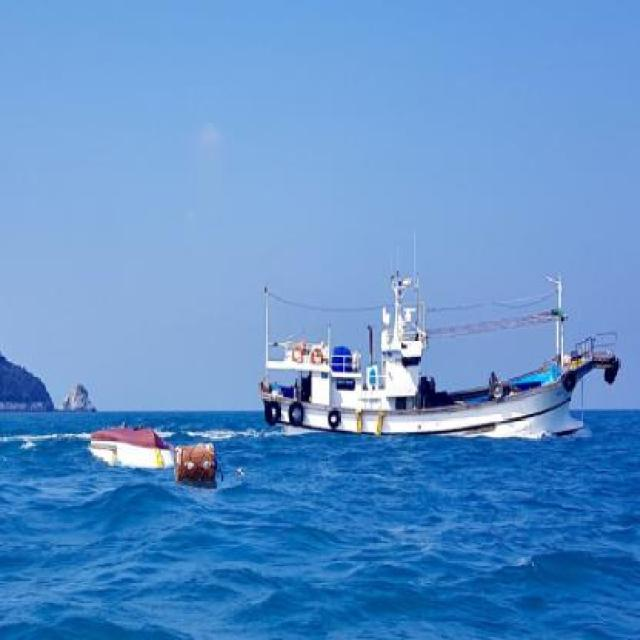fish-b: (260, 239, 629, 450)
